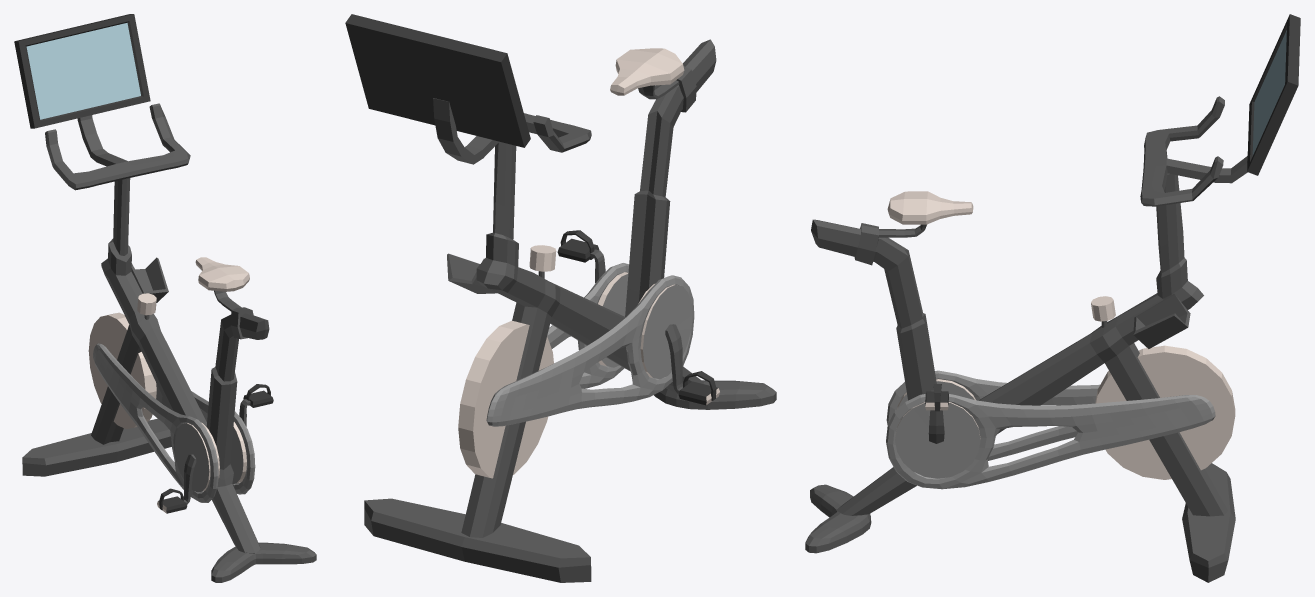
File: Peloton_1.fbx
The picture shows the model from 3 angles, left to right: view 1: azimuth 30°, elevation 25°; view 2: azimuth 150°, elevation 25°; view 3: azimuth 270°, elevation 25°; orthographic projection. The views are drawn at different scales.
Parts seen in each view (by area): view 1: Peloton_1; view 2: Peloton_1; view 3: Peloton_1.
Part boxes in pixels (x1=…): Peloton_1: x1=14, y1=14, x2=316, y2=582; Peloton_1: x1=345, y1=14, x2=776, y2=582; Peloton_1: x1=805, y1=14, x2=1300, y2=582.
Size of the model in its own units: 105 by 223 by 242.
